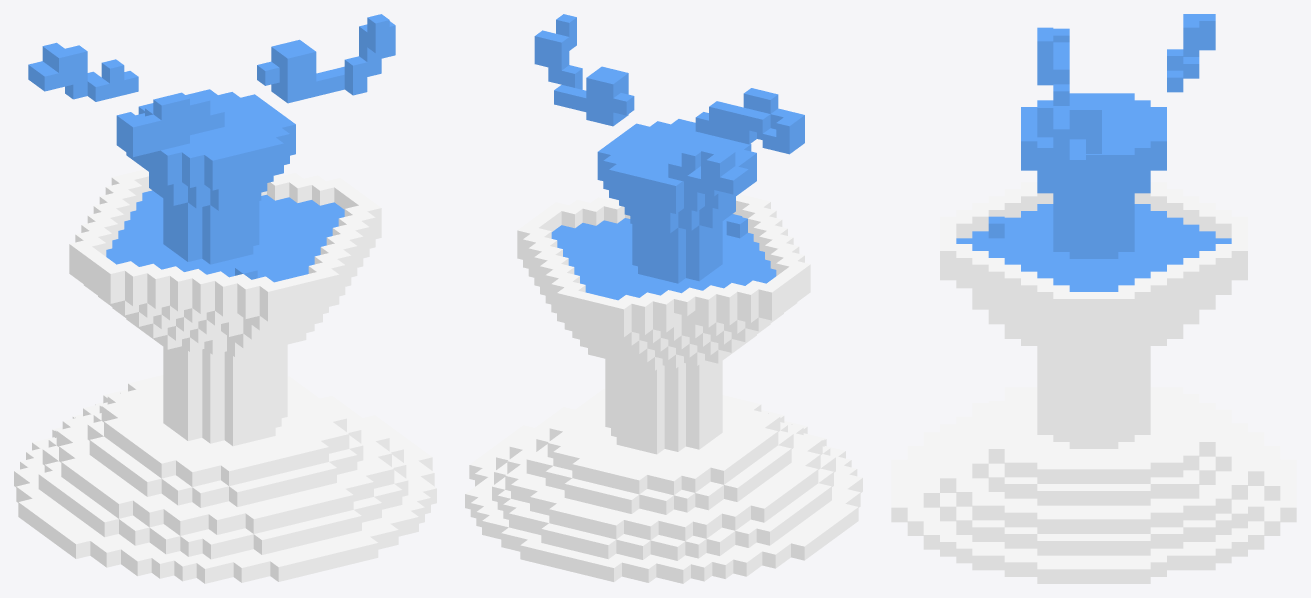
The picture shows the model from 3 angles, left to right: view 1: azimuth 30°, elevation 25°; view 2: azimuth 150°, elevation 25°; view 3: azimuth 270°, elevation 25°; orthographic projection. The views are drawn at different scales.
Parts seen in each view (by area): view 1: Object; view 2: Object; view 3: Object.
Part boxes in pixels (<box>): Object: <box>14,14,436,583</box>; Object: <box>465,14,862,583</box>; Object: <box>891,14,1296,583</box>.
Size of the model in its own units: 25 by 31 by 25.
Materials: 1 (1 with a texture image).
